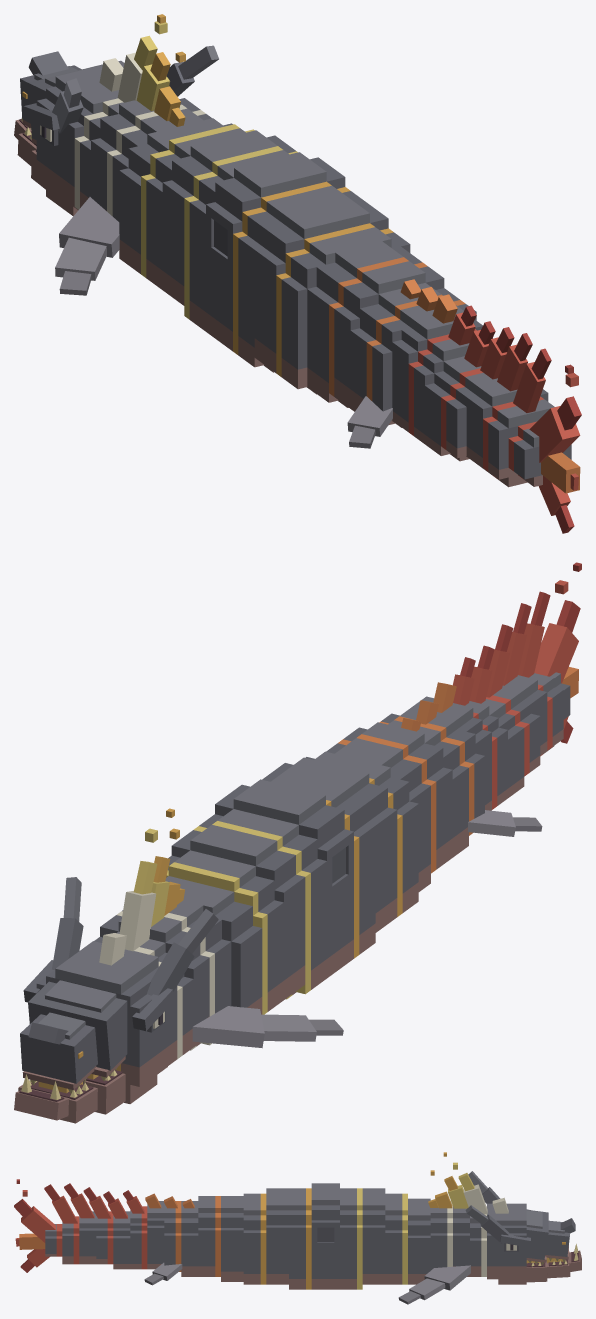
The model's file is EmberSerpent.glb.
3 renders of one model, top to bottom at view 1: azimuth 30°, elevation 25°; view 2: azimuth 150°, elevation 25°; view 3: azimuth 270°, elevation 25°, orthographic. The views are drawn at different scales.
Visible parts, largest first — view 1: Head, S8, S10, S6, S11, S12, Tail_Glow, S9, S13, FinL, S4, S15 (+29 smaller); view 2: Head, S8, S6, S10, S4, FinL, S7, S5, S9, S12, S13, S11 (+28 smaller); view 3: Head, S8, S6, S10, S12, S4, Tail_Glow, S9, S7, S11, S5, S13 (+29 smaller).
Boxes of the visible parts, box(x1,y1,x2,y2) form: Head: box(20, 45, 218, 216); S8: box(206, 152, 345, 351); S10: box(254, 197, 388, 372); S6: box(162, 130, 296, 305); S11: box(281, 227, 410, 394); S12: box(307, 241, 421, 407); Tail_Glow: box(508, 396, 581, 533); S9: box(238, 185, 366, 372); S13: box(334, 261, 444, 408); FinL: box(55, 197, 119, 295); S4: box(119, 118, 232, 273); S15: box(347, 304, 476, 448); Head: box(20, 877, 218, 1103); S8: box(215, 779, 353, 978); S6: box(171, 825, 305, 999); S10: box(264, 757, 397, 932); S4: box(165, 876, 262, 1014); FinL: box(192, 1006, 343, 1048); S7: box(199, 809, 326, 994); S5: box(168, 850, 283, 1011); S9: box(262, 773, 375, 954); S12: box(326, 738, 430, 891); S13: box(343, 722, 452, 869); S11: box(305, 751, 418, 912); Head: box(465, 1171, 575, 1284); S8: box(311, 1183, 339, 1289); S6: box(362, 1188, 385, 1284); S10: box(266, 1188, 288, 1284); S12: box(221, 1196, 243, 1281); S4: box(408, 1198, 430, 1284); Tail_Glow: box(14, 1199, 62, 1272); S9: box(289, 1188, 305, 1289); S7: box(340, 1188, 356, 1289); S11: box(243, 1193, 260, 1284); S5: box(385, 1193, 402, 1284); S13: box(198, 1196, 215, 1276).
Bounding box in the file's own units: 13.67 × 10.93 × 45.14.
